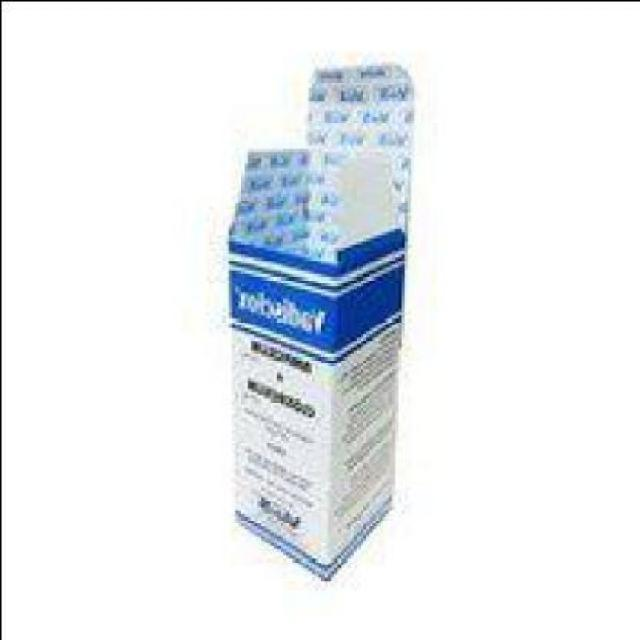box: (231, 58, 414, 577)
